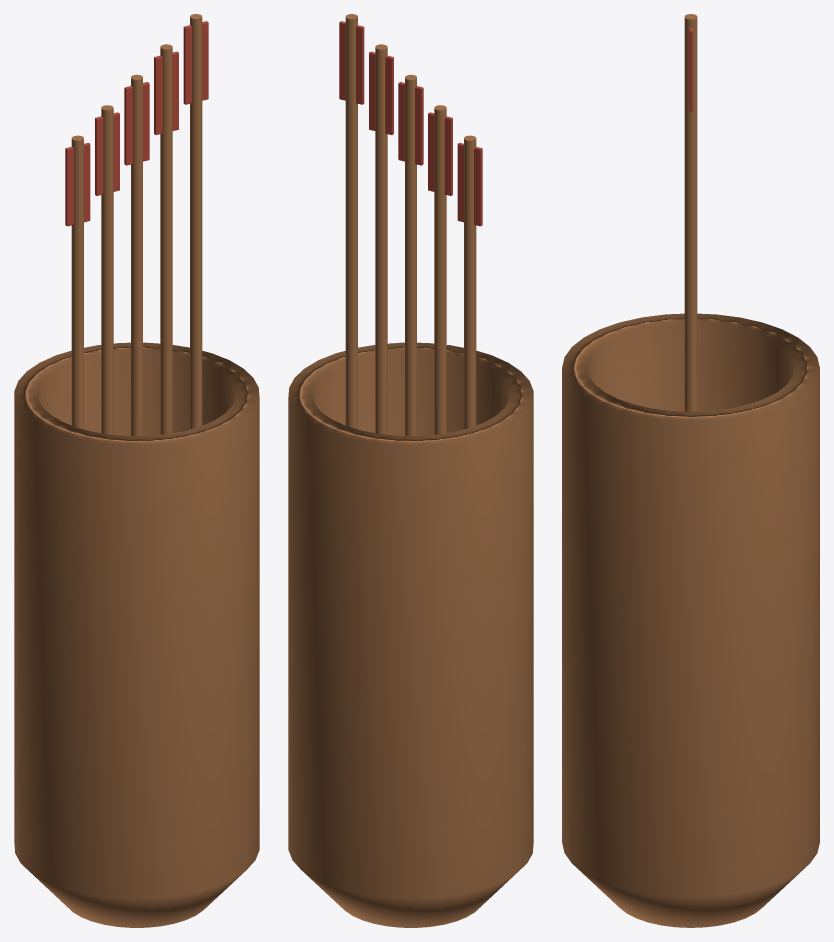
Rendered from wp-carquois-de-fleches.glb.
3 renders of one model, left to right at view 1: azimuth 30°, elevation 25°; view 2: azimuth 150°, elevation 25°; view 3: azimuth 270°, elevation 25°, orthographic. The views are drawn at different scales.
Visible parts, largest first — view 1: wp-carquois-de-fleches; view 2: wp-carquois-de-fleches; view 3: wp-carquois-de-fleches.
Boxes of the visible parts, x1,y1,x2,y2 form: wp-carquois-de-fleches: (14,14,259,927); wp-carquois-de-fleches: (288,14,533,927); wp-carquois-de-fleches: (562,14,819,927).
Size of the model in its own units: 0.18 by 0.7 by 0.18.
